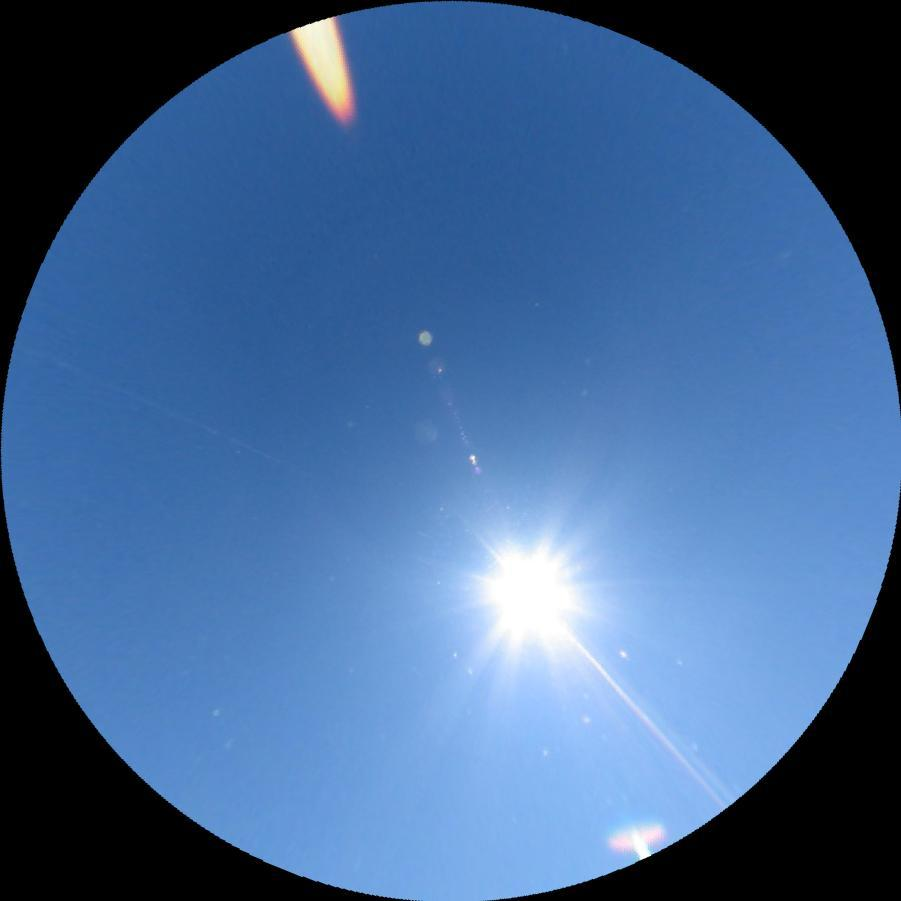parasite: (560, 626, 724, 806), (34, 349, 281, 463)
sun: (481, 543, 577, 641)
